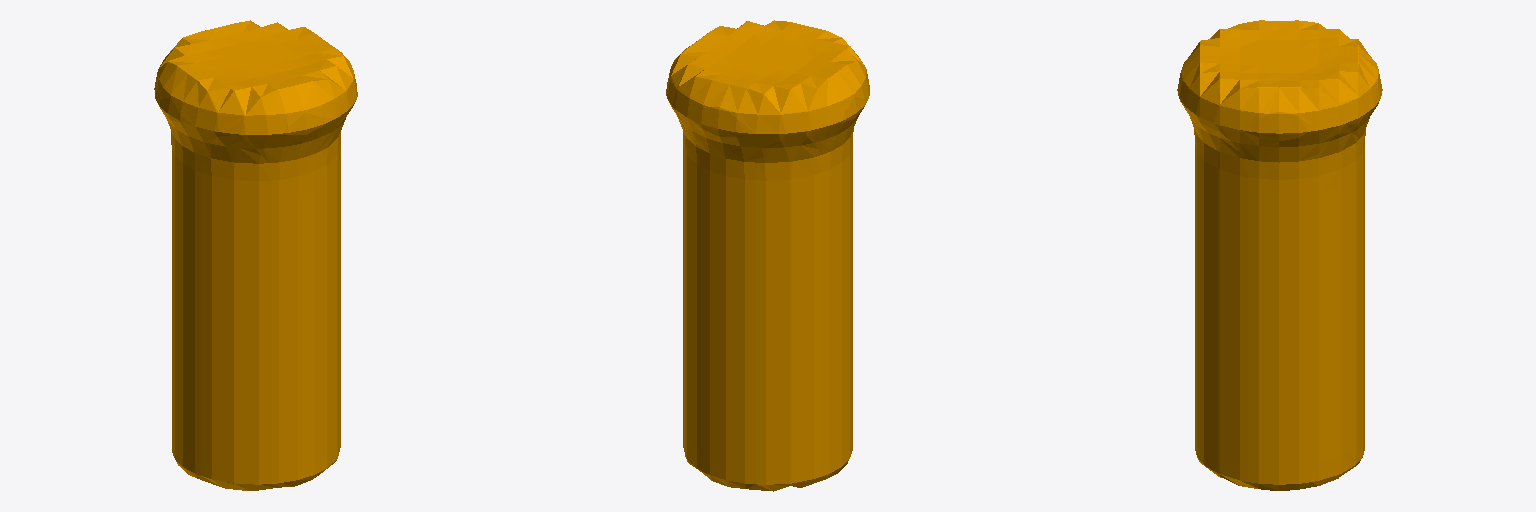
URDF robot description (cylinder_../../meshes/cylinders/cylinder_62.stl):
<?xml version="1.0" encoding="utf-8"?>  <robot name="cylinder_../../meshes/cylinders/cylinder_62.stl">   <link name="cylinder_../../meshes/cylinders/cylinder_62.stl">     <visual>       <geometry>         <mesh filename="../meshes/cylinders/cylinder_62.stl" scale="1 1 1"/>       </geometry>     </visual>     <collision>       <geometry>         <mesh filename="../meshes/cylinders/cylinder_62.stl" scale="1 1 1"/>       </geometry>     </collision>     <inertial>        <origin         xyz="0 0 0"         rpy="0 0 0" />       <mass value="0.16864914883382034"/>       <origin rpy="0 0 0" xyz="0 0 0"/>       <inertia ixx="0.00020599664539417716" ixy="-5.6386010573026005e-09" ixz="1.8808166484634353e-08" iyy="0.00020599849333009188" iyz="1.729721966667862e-08" izz="4.061041616338196e-05"/>     </inertial>   </link>  </robot>

--- Render facts (derived) ---
The picture shows the robot from 3 angles, left to right: view 1: azimuth 30°, elevation 25°; view 2: azimuth 150°, elevation 25°; view 3: azimuth 270°, elevation 25°; orthographic projection.
Robot: cylinder_../../meshes/cylinders/cylinder_62.stl — 1 links, 0 joints (none); root link cylinder_../../meshes/cylinders/cylinder_62.stl; default pose: every joint at zero.
Visible links, largest first — view 1: cylinder_../../meshes/cylinders/cylinder_62.stl; view 2: cylinder_../../meshes/cylinders/cylinder_62.stl; view 3: cylinder_../../meshes/cylinders/cylinder_62.stl.
Link boxes in pixels (bbox=[...]): cylinder_../../meshes/cylinders/cylinder_62.stl: bbox=[154, 20, 357, 490]; cylinder_../../meshes/cylinders/cylinder_62.stl: bbox=[666, 20, 869, 491]; cylinder_../../meshes/cylinders/cylinder_62.stl: bbox=[1177, 20, 1382, 490].
Size in the robot's own frame: 0.0519 by 0.0519 by 0.1136 metres.
Meshes: 1 distinct files referenced, 1 mesh visuals loaded (1 binary STL).